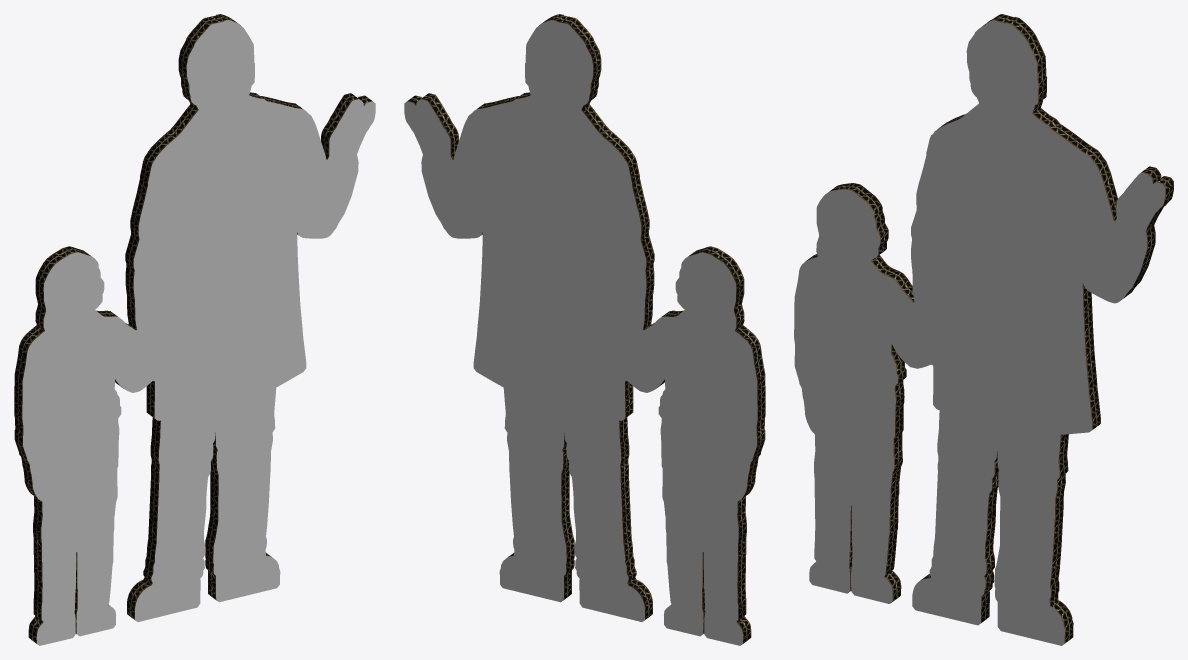
File: NPC_Cafe_Patrons_father_and_daughter_standing.FBX
The picture shows the model from 3 angles, left to right: view 1: azimuth 30°, elevation 25°; view 2: azimuth 150°, elevation 25°; view 3: azimuth 330°, elevation 25°; orthographic projection. The views are drawn at different scales.
Visible parts, largest first — view 1: NPC_Cafe Patrons father and daughter standing; view 2: NPC_Cafe Patrons father and daughter standing; view 3: NPC_Cafe Patrons father and daughter standing.
Part boxes in pixels (left/top/right/bottom): NPC_Cafe Patrons father and daughter standing: left=14, top=14, right=375, bottom=645; NPC_Cafe Patrons father and daughter standing: left=404, top=14, right=765, bottom=645; NPC_Cafe Patrons father and daughter standing: left=794, top=14, right=1173, bottom=645.
Size of the model in its own units: 42.58 by 66.81 by 1.7.
